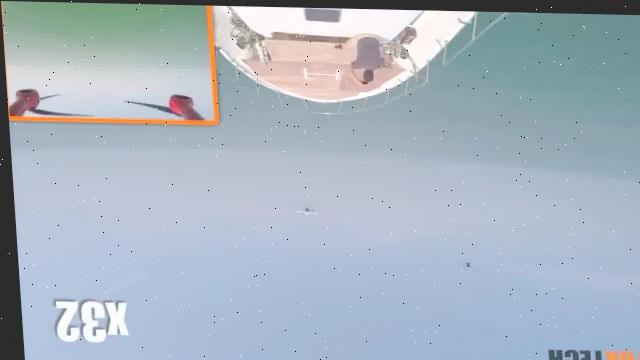drone: (294, 200, 322, 220), (457, 259, 478, 273)
